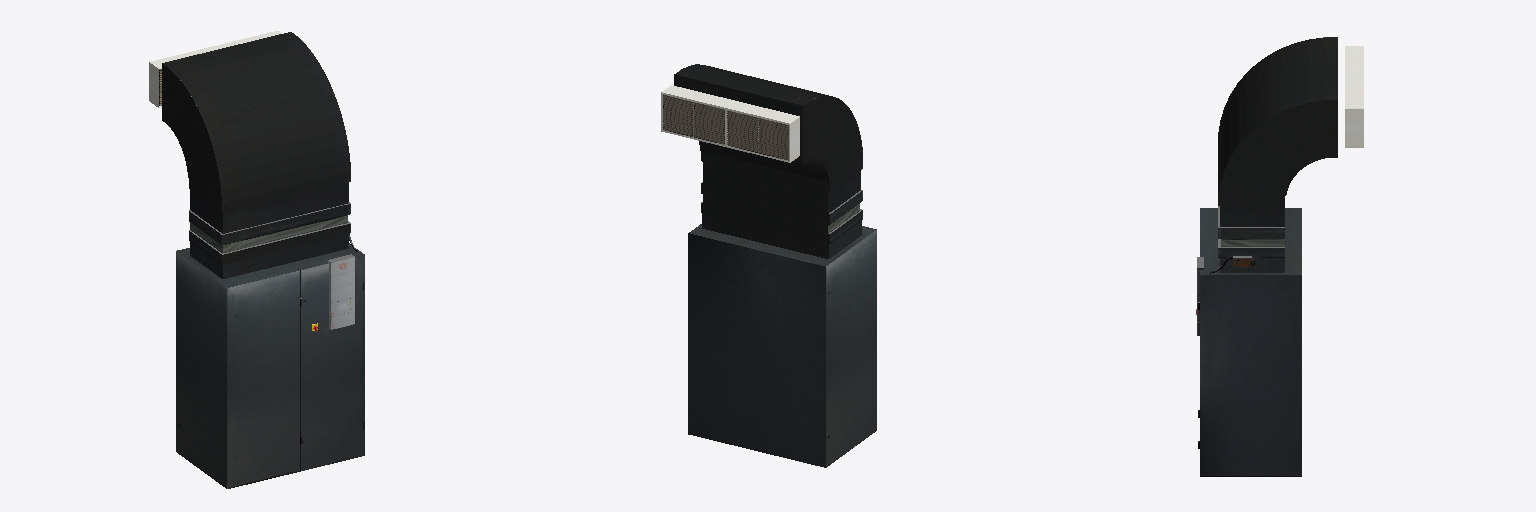
The picture shows the model from 3 angles: view 1: azimuth 30°, elevation 25°; view 2: azimuth 150°, elevation 25°; view 3: azimuth 270°, elevation 25°; orthographic projection.
Visible parts, largest first — view 1: Object003; view 2: Object003; view 3: Object003.
Part boxes in pixels (x1,y1,x2,y2): Object003: (149, 31, 364, 488); Object003: (661, 64, 876, 467); Object003: (1196, 37, 1363, 476).
Bounding box in the file's own units: 1.42 × 3.68 × 1.5.
Materials: 1 (1 with a texture image).